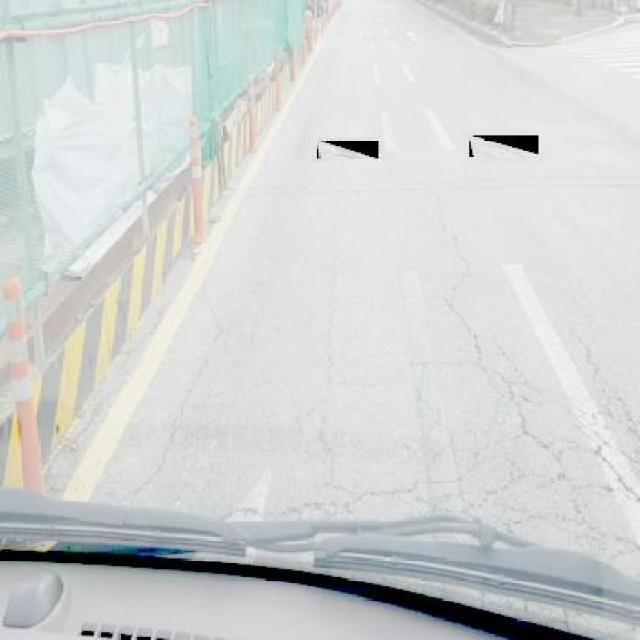Manhole: (469, 134, 538, 158), (316, 140, 378, 158)
